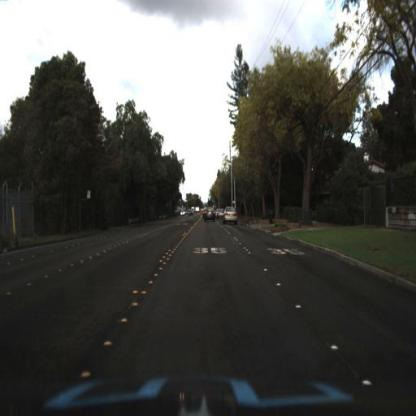car: (220, 201, 241, 224), (201, 202, 217, 225)
